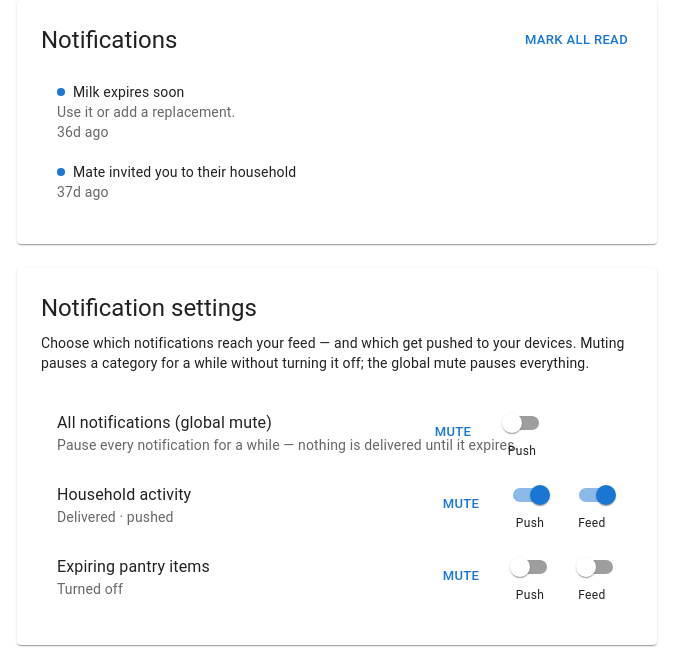
Test: NotificationsPage › notification feed › marks a single notification read and follows its deep-link
The width and height of the screenshot is (675, 664).
What coordinates should you click on to do the following:
click the text "Milk expires soon"
I would click on:
 (121, 92)
Its box is [57,84,184,100].
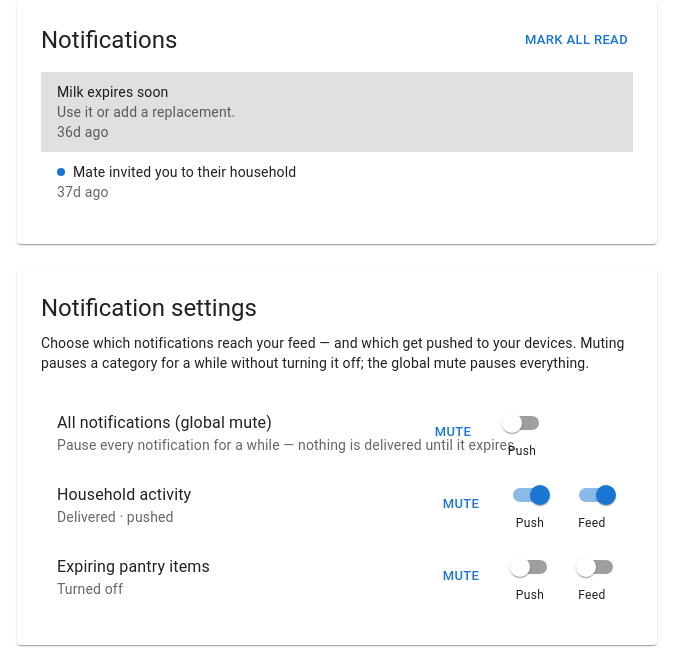
Check: the element with test id "unread-dot-3" is shown, box [57,168,65,176]
Check: the element with test id "unread-dot-4" is gone
